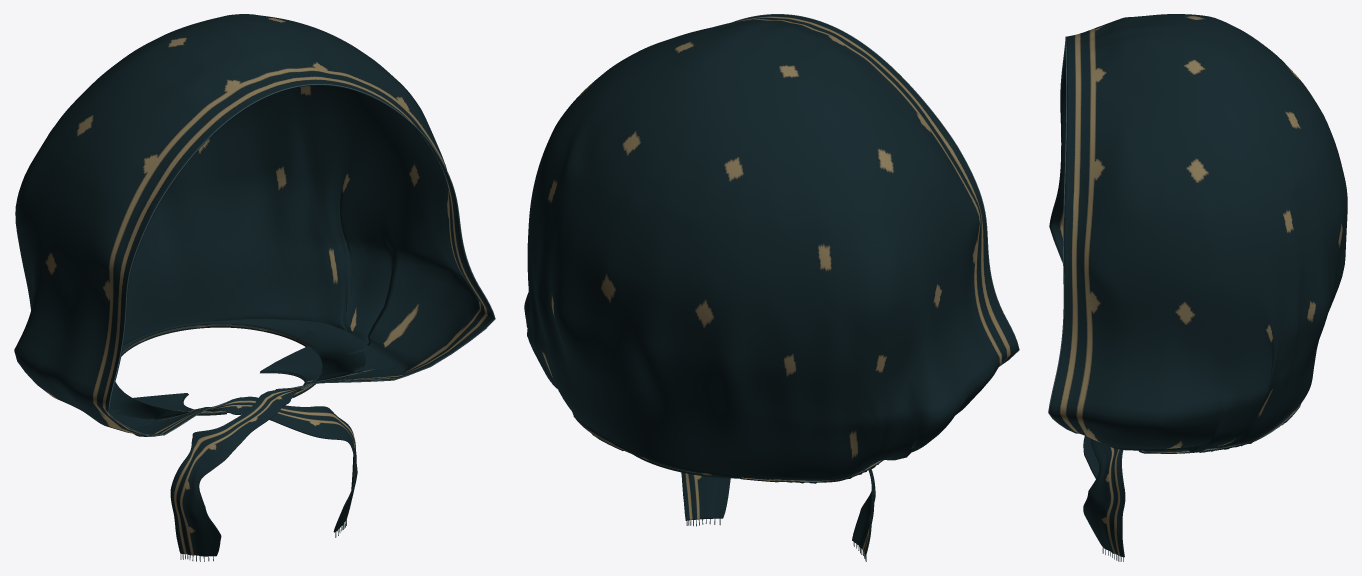
Rendered from Feminine-side-sweep-triangle-pashmina249-headgear.glb.
3 renders of one model, left to right at view 1: azimuth 30°, elevation 25°; view 2: azimuth 150°, elevation 25°; view 3: azimuth 270°, elevation 25°, orthographic. The views are drawn at different scales.
Parts seen in each view (by area): view 1: 226 headgear / Headwear / continuous woven pashmina239, 226 headgear / Headwear / face edge239; view 2: 226 headgear / Headwear / continuous woven pashmina239, 226 headgear / Headwear / face edge239; view 3: 226 headgear / Headwear / continuous woven pashmina239, 226 headgear / Headwear / face edge239.
Boxes of the visible parts, x1=… form: 226 headgear / Headwear / continuous woven pashmina239: x1=14, y1=14, x2=494, y2=556; 226 headgear / Headwear / face edge239: x1=108, y1=84, x2=495, y2=435; 226 headgear / Headwear / continuous woven pashmina239: x1=524, y1=14, x2=1018, y2=555; 226 headgear / Headwear / face edge239: x1=731, y1=14, x2=1019, y2=365; 226 headgear / Headwear / continuous woven pashmina239: x1=1049, y1=14, x2=1347, y2=557; 226 headgear / Headwear / face edge239: x1=1048, y1=36, x2=1078, y2=433.
Bounding box in the file's own units: 1.23 × 1.41 × 0.7774.
3 materials, 1 textured.
